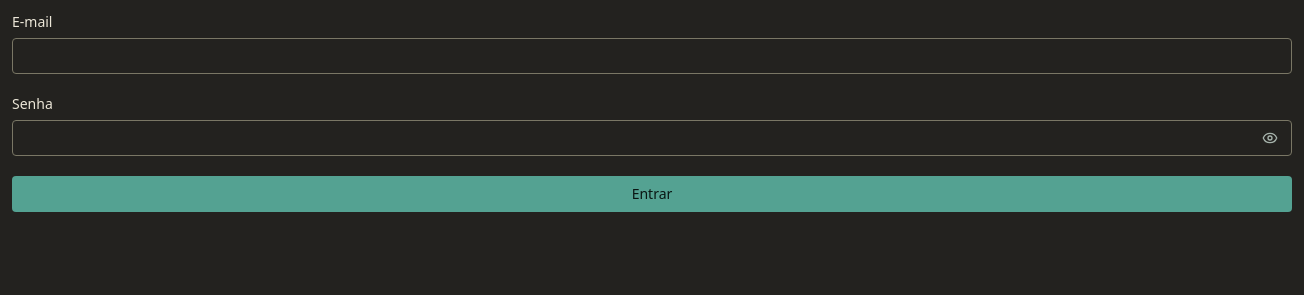
it: LoginContainer › não trava em 'Entrando…' quando a Server Action lança uma exceção inesperada
Type "admin@rigonicontabil.local" into the field labelled "E-mail" at (652, 56), box x1=12 y1=38 x2=1292 y2=74
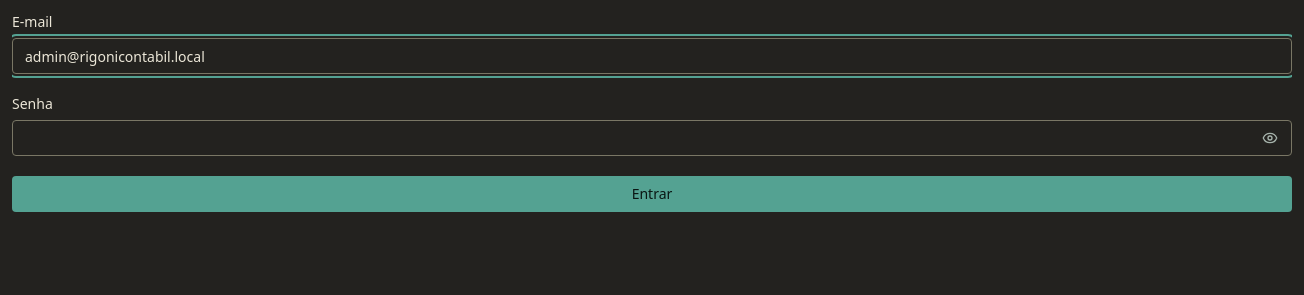
Type "admin123" into the password field labelled "Senha" at (652, 138), box x1=12 y1=120 x2=1292 y2=156
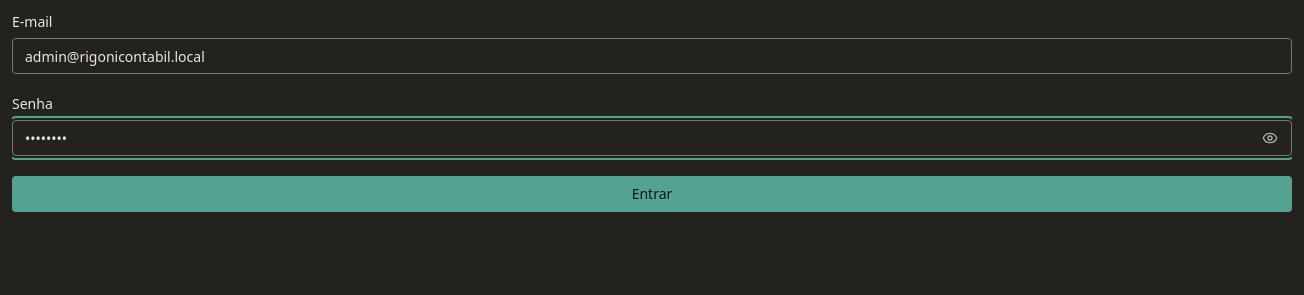
Click the button "Entrar" at (652, 194), box x1=12 y1=176 x2=1292 y2=212
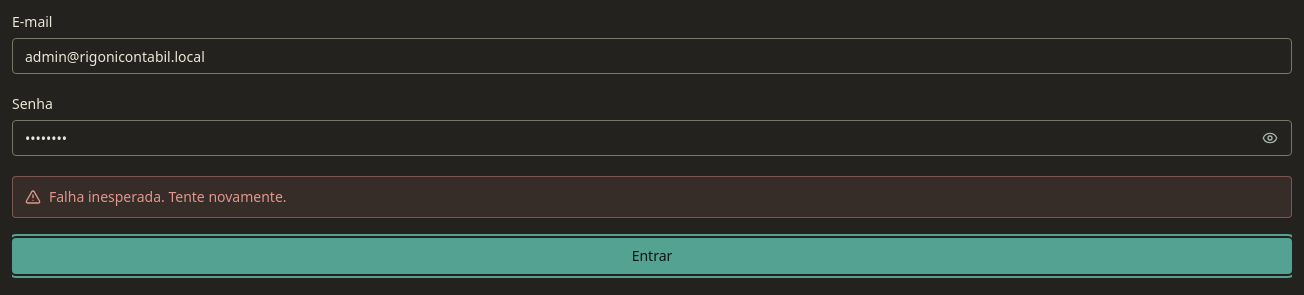
Expected: the button "Entrar" is enabled, x1=12 y1=238 x2=1292 y2=274
Now the message shows "Falha inesperada", box x1=49 y1=187 x2=287 y2=206
